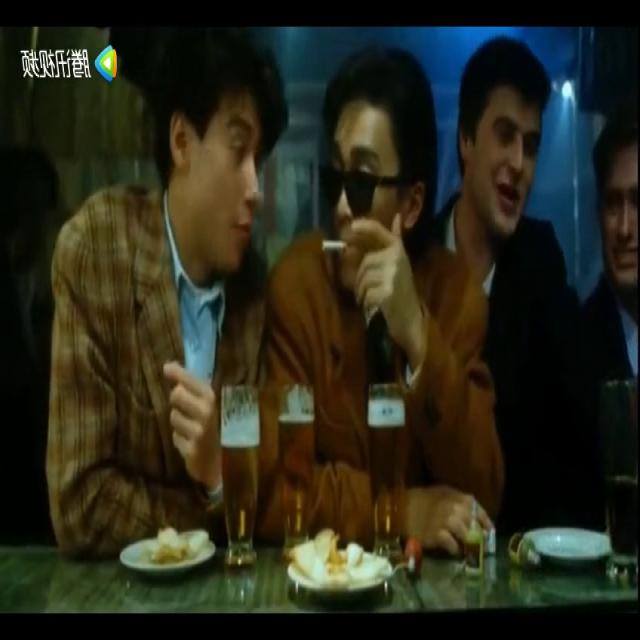smoking: (320, 234, 350, 256)
